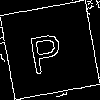P: (25, 24, 66, 75)
